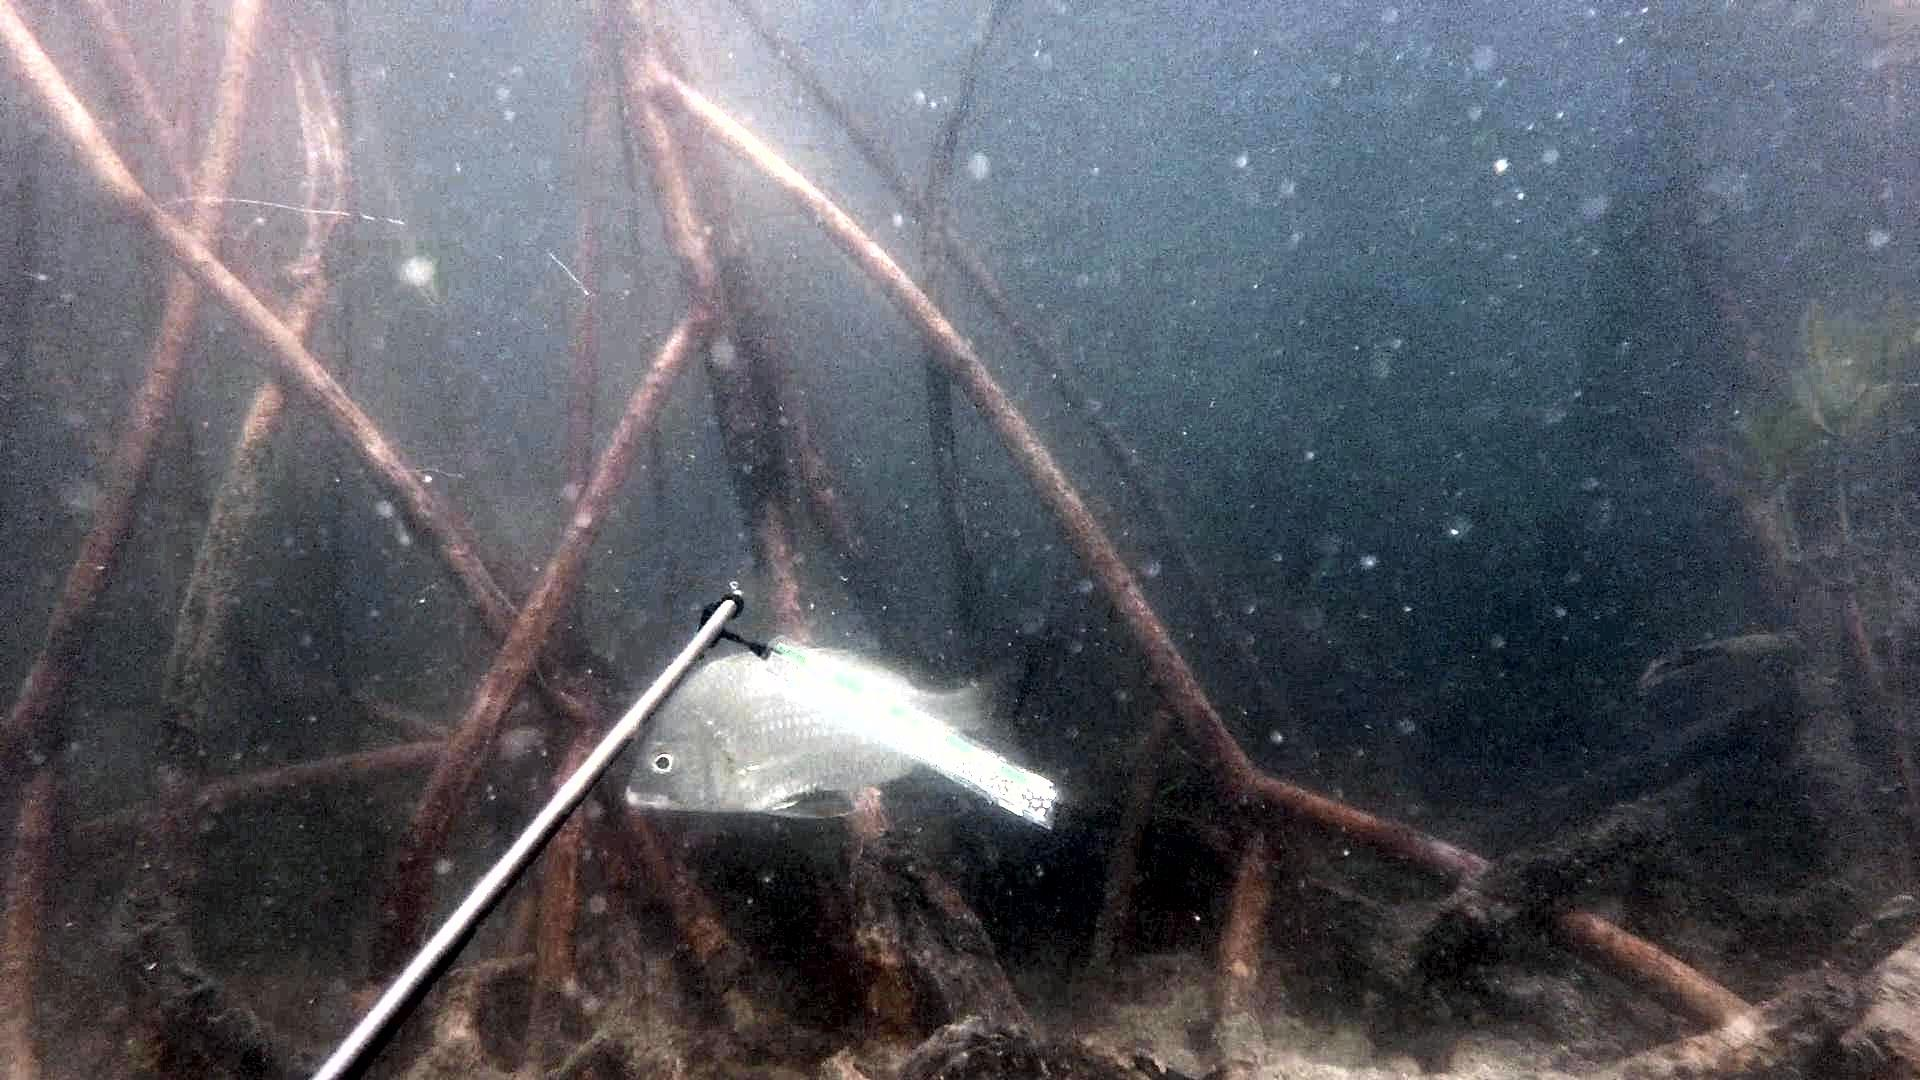acanthopagrus palmaris: (613, 634, 1063, 837)
